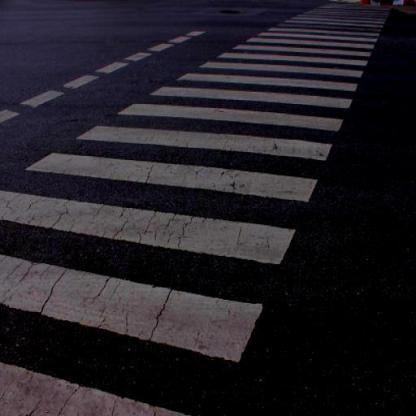crosswalk: (15, 119, 347, 207)
